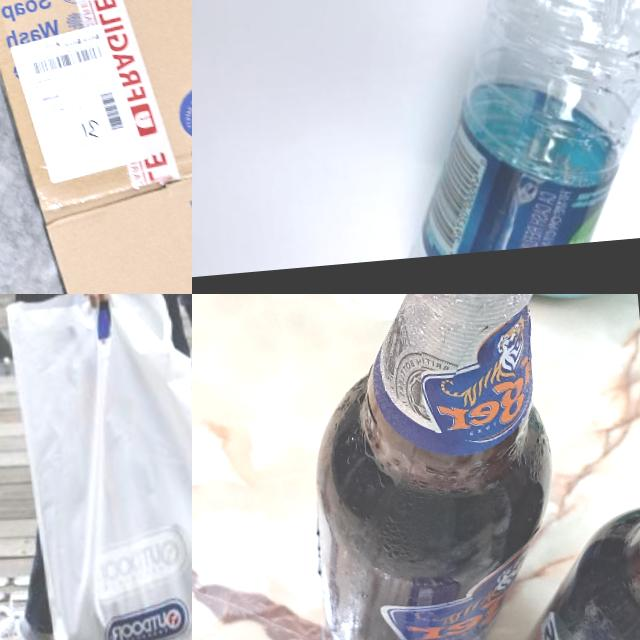garrafa de vidro: (283, 294, 585, 640), (506, 500, 640, 640)
garrafa plástica: (375, 0, 640, 258)
papelão: (0, 0, 192, 294)
sacola plástica: (0, 294, 192, 640)
